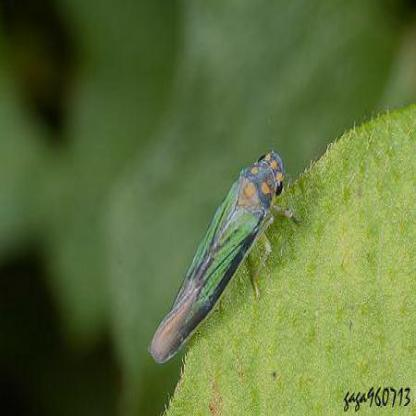green-leafhopper: (151, 152, 303, 364)
